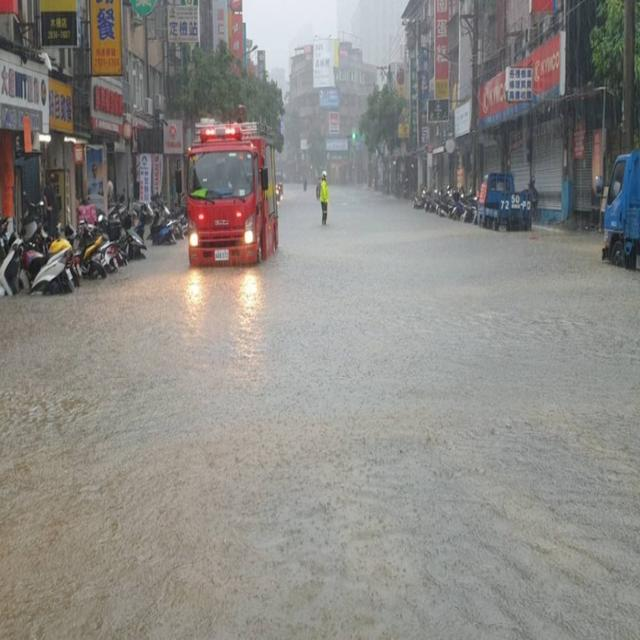Car-RiskLevel2: (171, 107, 284, 272)
Person-RiskLevel2: (302, 164, 341, 234)
